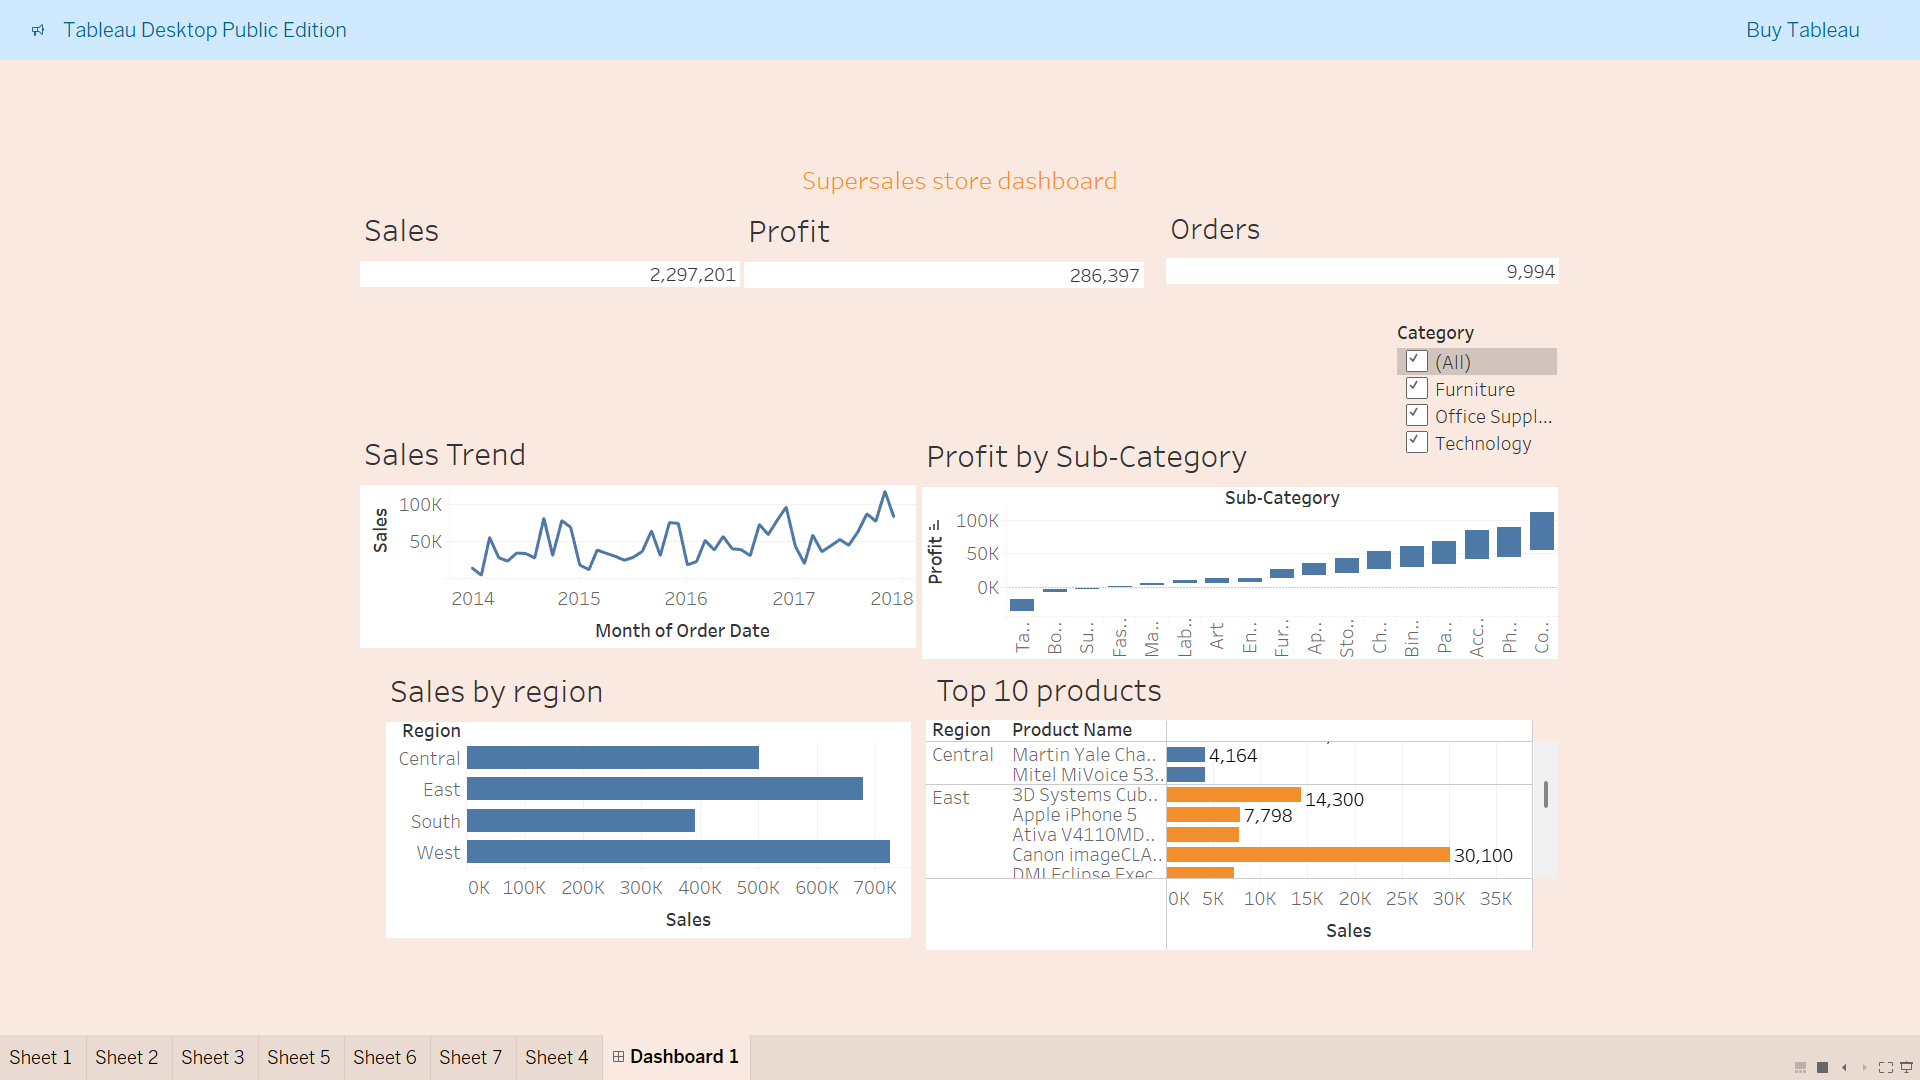

What the dashboard file says about the page in this screenshot:
{"tool":"tableau","page":{"name":"Dashboard 1","canvas":[1000,1000],"units":"permille","ordinal":0},"visuals":[{"type":"text","box":[6.7,10.7,986.7,62.9]},{"type":"worksheet","title":"Sheet 1","mark":"Automatic","box":[0,71,316.7,263.7]},{"type":"worksheet","title":"Sheet 3","mark":"Automatic","box":[671.7,71,327.5,263.7]},{"type":"worksheet","title":"Sheet 2","mark":"Automatic","box":[320,72.3,333.3,262.4]},{"type":"filter","title":"Sheet 4","param":"[federated.18cu2st0vo7gdo1017gaz0fz32cx].[none:Category:nk]","box":[864.2,215.5,133.3,179.4]},{"type":"worksheet","title":"Sheet 4","mark":"Automatic","rows":["vtsum"],"cols":["Order Date"],"box":[0,350.7,463.3,275.8]},{"type":"worksheet","title":"Sheet 5","mark":"GanttBar","rows":["Profit"],"cols":["Sub-Category"],"box":[468.3,353.4,530,286.5]},{"type":"worksheet","title":"Sheet 7","mark":"Automatic","rows":["Region","Product Name"],"cols":["vtsum"],"box":[471.7,646.6,526.7,357.4]},{"type":"worksheet","title":"Sheet 6","mark":"Automatic","rows":["Region"],"cols":["vtsum"],"box":[21.7,647.9,437.5,341.4]}]}

Visuals, with their boxes on the dashboard's canvas, which has no fixed pixel size, in thousandths of its width and height (x1, y1, x2, y2). These are canvas units, not pixel positions in the 1920x1080 screenshot, which may show the page scaled, cropped or inside an application window:
text: bbox=(7, 11, 993, 74)
"Sheet 1" worksheet: bbox=(0, 71, 317, 335)
"Sheet 3" worksheet: bbox=(672, 71, 999, 335)
"Sheet 2" worksheet: bbox=(320, 72, 653, 335)
"Sheet 4" filter: bbox=(864, 216, 998, 395)
"Sheet 4" worksheet: bbox=(0, 351, 463, 626)
"Sheet 5" worksheet (GanttBar marks): bbox=(468, 353, 998, 640)
"Sheet 7" worksheet: bbox=(472, 647, 998, 1004)
"Sheet 6" worksheet: bbox=(22, 648, 459, 989)
